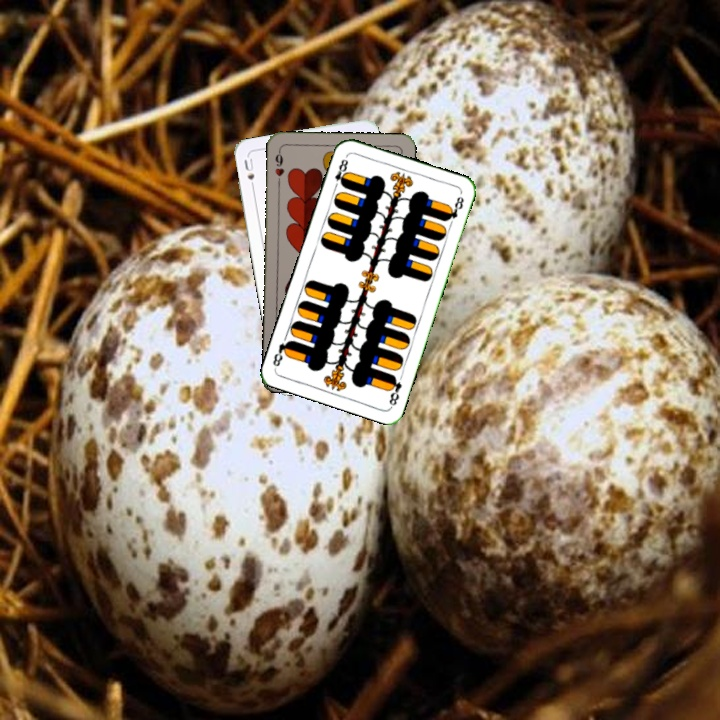E8: (330, 152, 351, 192), (385, 371, 404, 409)
H9: (271, 147, 287, 187)
SU: (240, 154, 257, 194)
